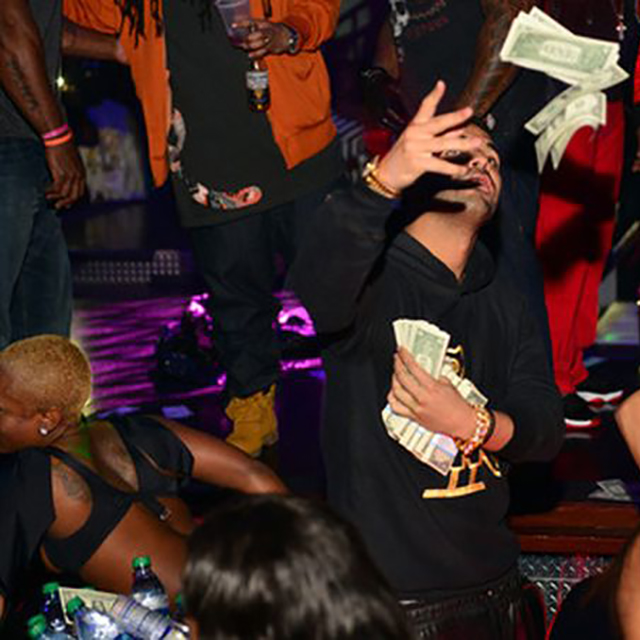banknotes: (384, 317, 487, 478), (501, 9, 627, 88), (524, 90, 607, 171)
